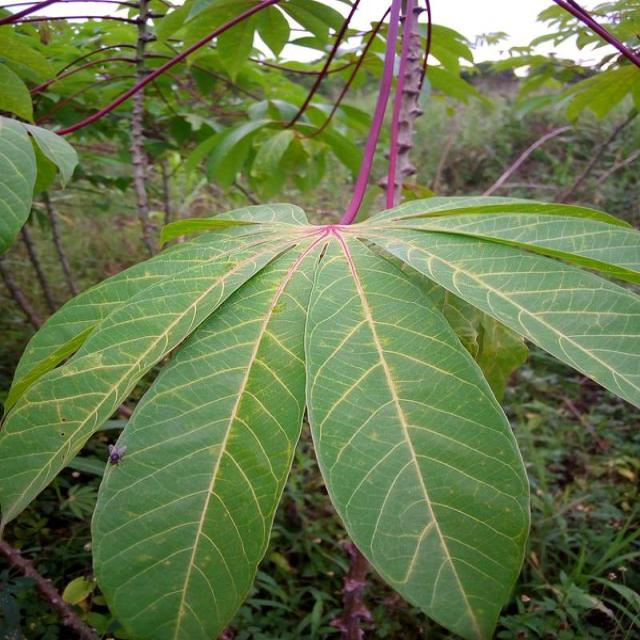cassava leaf: (1, 191, 638, 638), (88, 216, 319, 638), (303, 229, 532, 638)
